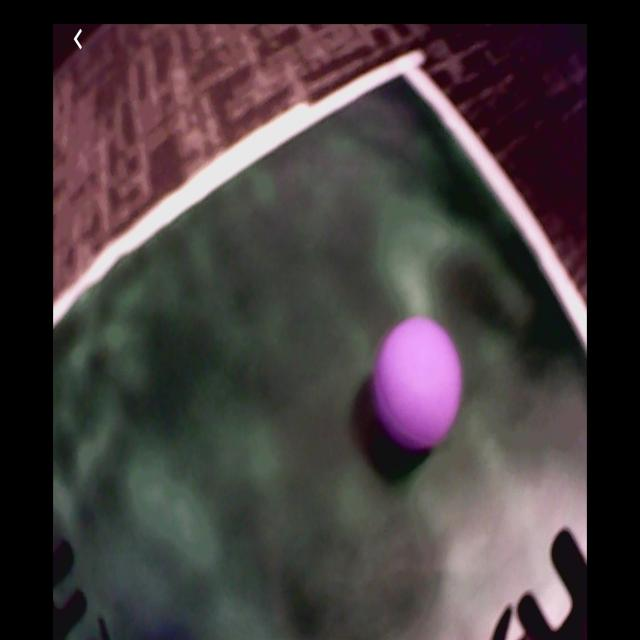ball: (375, 317, 459, 453)
